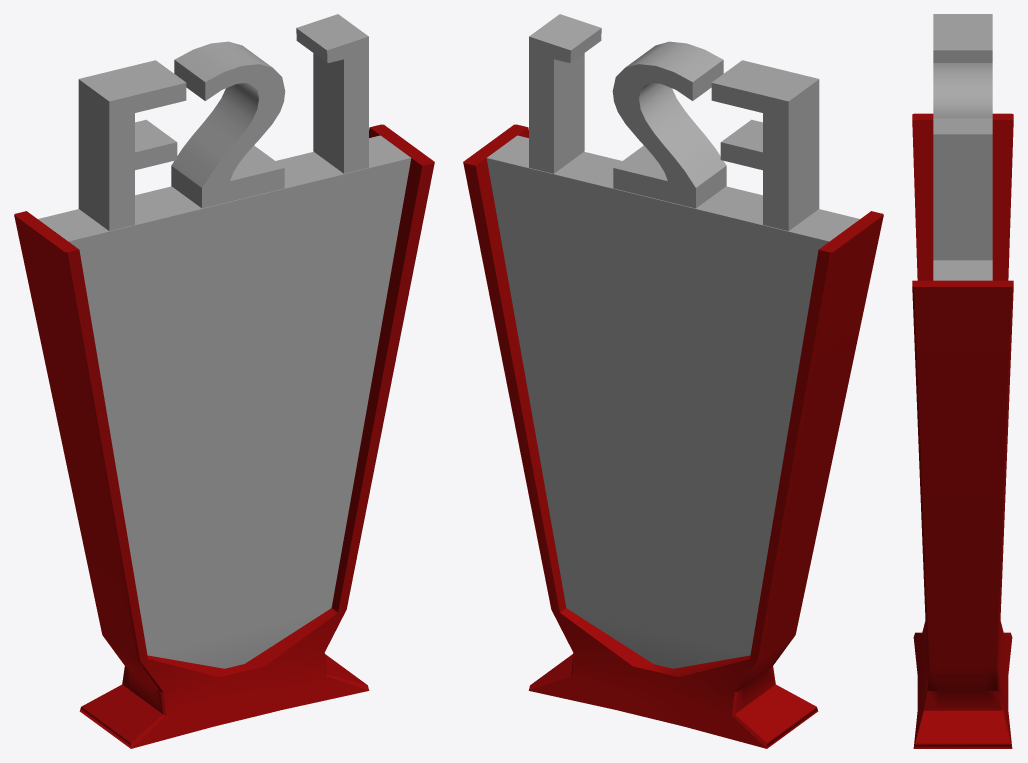
File: credit_f21.fbx
3 renders of one model, left to right at view 1: azimuth 30°, elevation 25°; view 2: azimuth 150°, elevation 25°; view 3: azimuth 270°, elevation 25°, orthographic. The views are drawn at different scales.
Visible parts, largest first — view 1: plaque, titleText; view 2: plaque, titleText; view 3: plaque, titleText.
Part boxes in pixels (left/top/right/bottom): plaque: left=14, top=124, right=434, bottom=748; titleText: left=78, top=14, right=368, bottom=230; plaque: left=463, top=124, right=883, bottom=748; titleText: left=529, top=14, right=819, bottom=230; plaque: left=912, top=113, right=1013, bottom=748; titleText: left=933, top=14, right=992, bottom=260.
Bounding box in the file's own units: 20.82 × 34.74 × 5.15.
